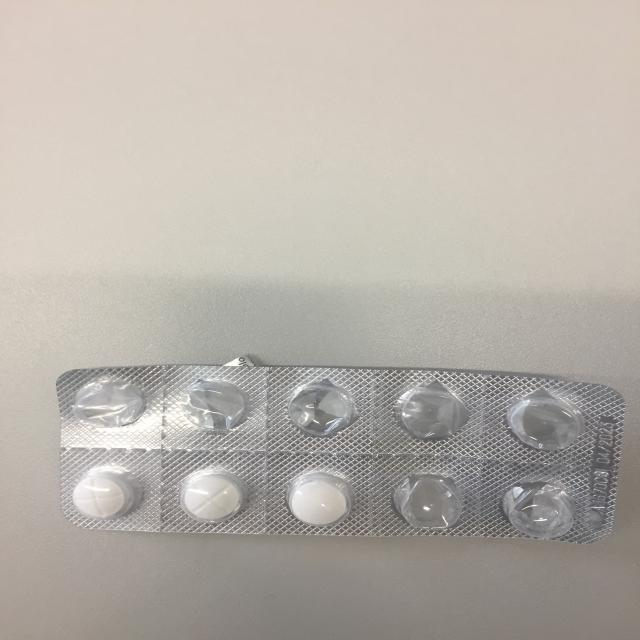Empty: (494, 475, 583, 541), (499, 388, 587, 454), (278, 376, 364, 441), (388, 471, 472, 535), (387, 380, 469, 445), (68, 369, 150, 432), (176, 376, 248, 434)
Pill: (61, 464, 150, 526), (280, 467, 363, 531), (171, 466, 255, 524)
